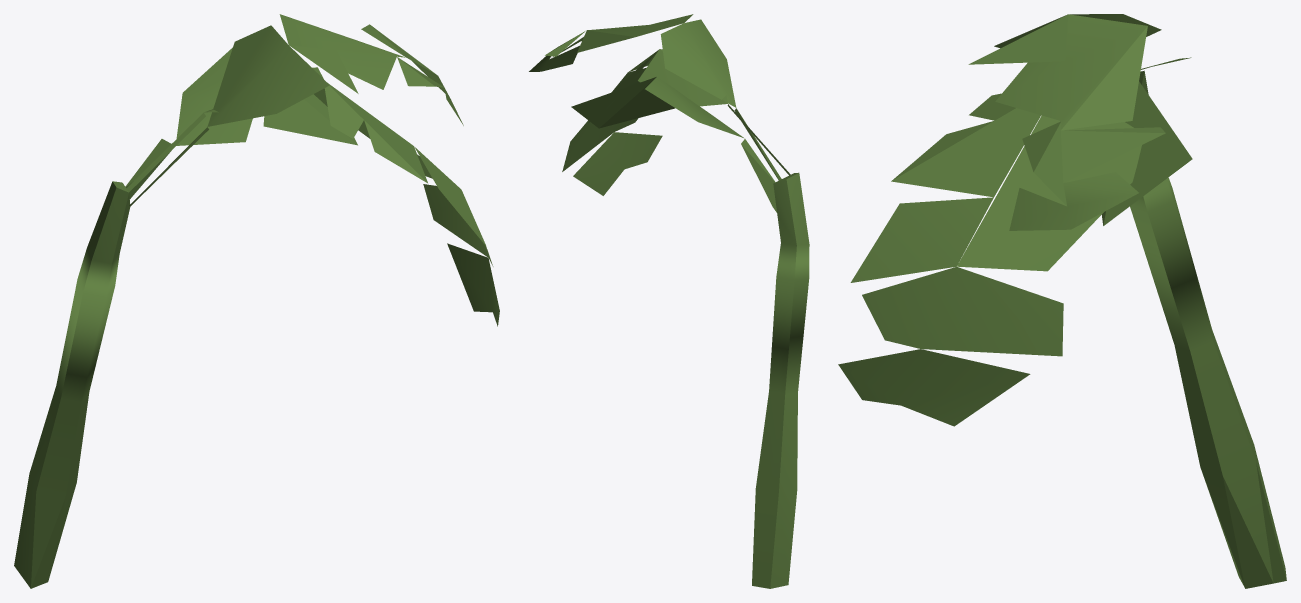
File: Tree_Bamboo_10.fbx
3 views of the same model, side by side, from view 1: azimuth 30°, elevation 25°; view 2: azimuth 150°, elevation 25°; view 3: azimuth 270°, elevation 25° (orthographic). The views are drawn at different scales.
Parts seen in each view (by area): view 1: Tree_Bamboo_10; view 2: Tree_Bamboo_10; view 3: Tree_Bamboo_10.
Part boxes in pixels (x1,y1,x2,y2): Tree_Bamboo_10: (14,14,499,588); Tree_Bamboo_10: (529,14,809,588); Tree_Bamboo_10: (838,14,1286,588).
Size of the model in its own units: 67.07 by 99.61 by 59.63.
